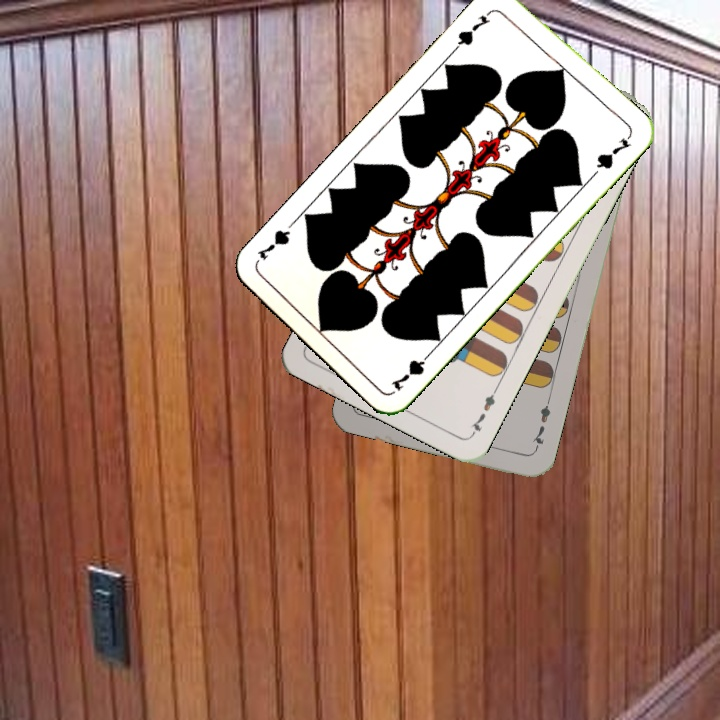E7: (466, 383, 501, 438), (528, 395, 554, 454)
G7: (386, 346, 436, 394), (450, 6, 496, 53)
